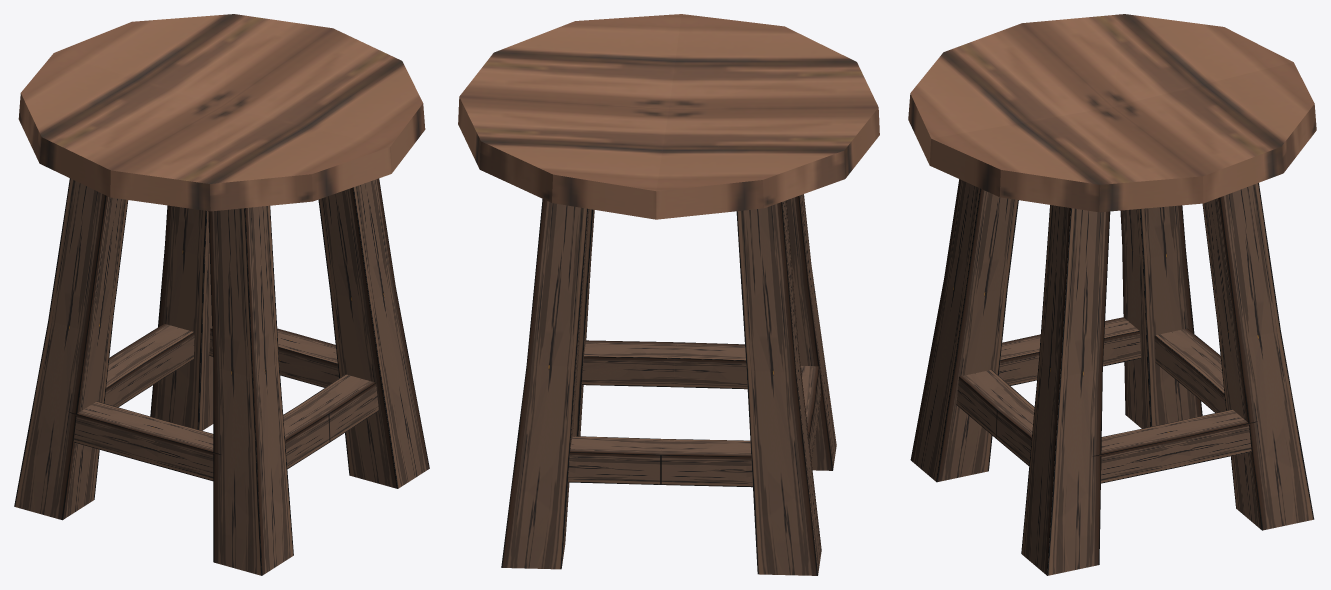
Rendered from furniture_bench_round_02.fbx.
3 views of the same model, side by side, from view 1: azimuth 30°, elevation 25°; view 2: azimuth 150°, elevation 25°; view 3: azimuth 270°, elevation 25° (orthographic). The views are drawn at different scales.
Visible parts, largest first — view 1: furniture_bench_round_02; view 2: furniture_bench_round_02; view 3: furniture_bench_round_02.
Part boxes in pixels (x1,y1,x2,y2): furniture_bench_round_02: [14, 14, 429, 575]; furniture_bench_round_02: [458, 14, 879, 575]; furniture_bench_round_02: [908, 14, 1316, 575].
Size of the model in its own units: 0.4834 by 0.5119 by 0.484.
1 material, 1 textured.
